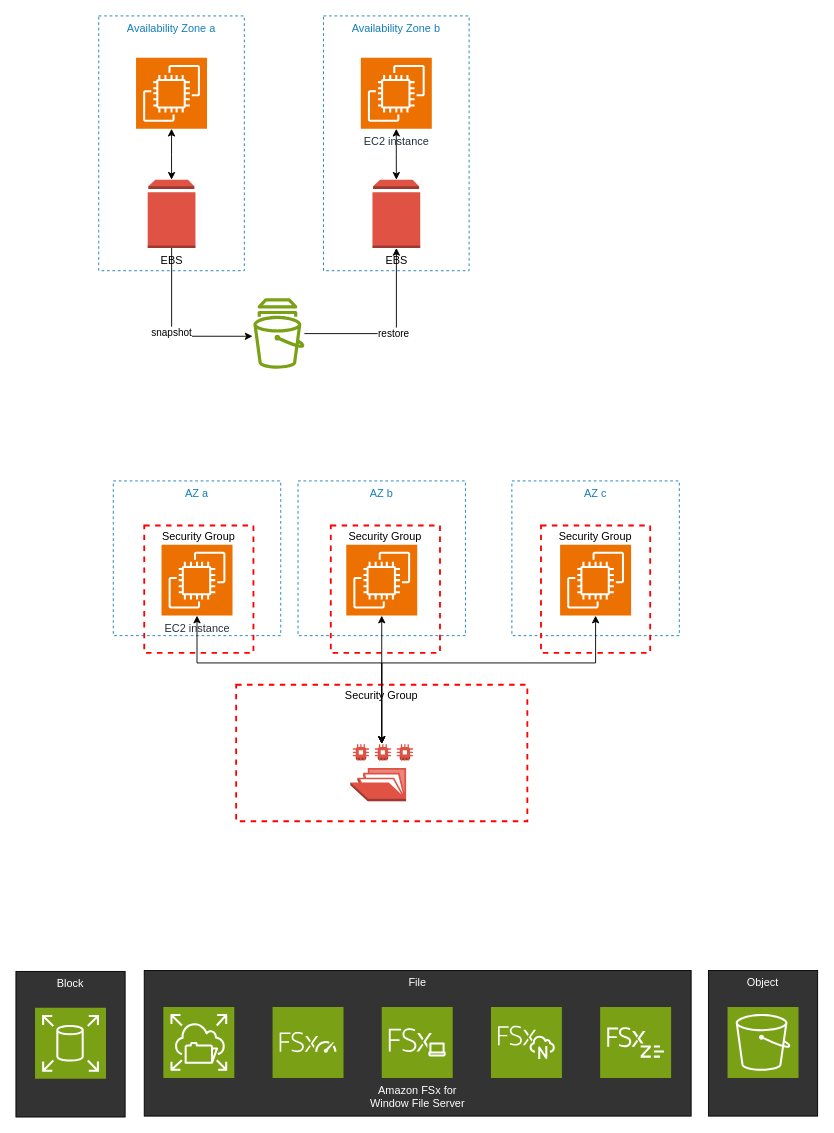
Image size: 834x1133. Some labels were removed from this diagram. The centre of each missing label's shape, as x and y in pixels:
"Amazon EBS" belongs at pixel 70 1043.
"Amazon EFS" belongs at pixel 198 1042.
"Amazon FSx for Lustre" belongs at pixel 308 1042.
"Amazon FSx for NetApp ONTAP" belongs at pixel 526 1042.
"Amazon FSx for OpenZFS" belongs at pixel 635 1042.
"Amazon S3 and S3 Glacier" belongs at pixel 763 1042.
"EBS snapshot" belongs at pixel 278 333.
"EC1 instance" belongs at pixel 171 93.
